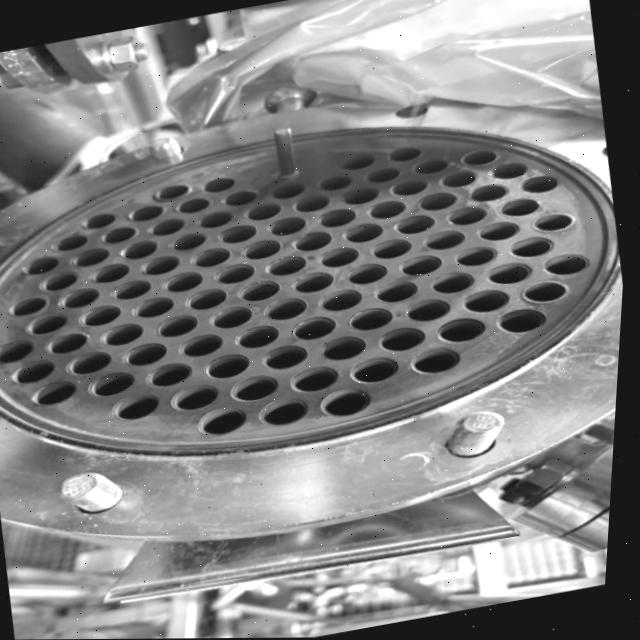Hole: (496, 303, 554, 339), (435, 313, 493, 348), (258, 394, 314, 429), (350, 353, 406, 388), (198, 403, 253, 438), (170, 381, 225, 415), (323, 385, 376, 420), (290, 362, 344, 396), (540, 249, 595, 282), (412, 344, 467, 376), (205, 349, 258, 382), (378, 322, 431, 355), (461, 285, 515, 317), (232, 371, 284, 404), (147, 358, 199, 391), (320, 332, 373, 364), (346, 303, 399, 335), (485, 258, 538, 290), (31, 377, 84, 409), (89, 368, 141, 400), (523, 275, 575, 307), (113, 390, 165, 422), (507, 232, 560, 263), (264, 341, 314, 373), (292, 312, 342, 344), (12, 355, 62, 387), (66, 347, 117, 378), (290, 266, 340, 297), (209, 302, 259, 332), (263, 294, 313, 324), (343, 258, 393, 288), (529, 208, 580, 236), (407, 295, 455, 324), (236, 322, 284, 351), (180, 330, 228, 359), (238, 276, 286, 304), (432, 267, 478, 296), (124, 340, 172, 367), (101, 320, 149, 347), (47, 328, 93, 356), (214, 259, 260, 287), (156, 312, 203, 339), (110, 275, 157, 302), (317, 243, 364, 270), (265, 251, 312, 278), (185, 286, 232, 313), (0, 335, 42, 365), (400, 250, 445, 278), (27, 310, 73, 337), (162, 267, 208, 294), (320, 286, 366, 313), (478, 216, 522, 244), (376, 277, 421, 304), (342, 219, 387, 246), (456, 242, 500, 269), (80, 302, 125, 327), (134, 294, 179, 319), (140, 252, 185, 277), (446, 202, 491, 227), (60, 284, 103, 310), (394, 211, 438, 236), (417, 189, 461, 214), (242, 236, 285, 261), (499, 195, 542, 220), (371, 237, 414, 261), (92, 260, 135, 284), (192, 245, 235, 269), (292, 228, 335, 252), (388, 175, 431, 199), (426, 227, 468, 251), (71, 244, 113, 268), (119, 236, 161, 260), (268, 214, 310, 238), (319, 205, 359, 230), (367, 198, 410, 221), (169, 229, 210, 253), (520, 172, 561, 196), (490, 159, 530, 182), (41, 269, 82, 291), (469, 181, 510, 203), (341, 184, 382, 206), (246, 199, 285, 222), (11, 295, 51, 317), (440, 167, 480, 189), (54, 230, 92, 253), (150, 214, 188, 237), (198, 208, 237, 230), (220, 222, 259, 244), (461, 147, 500, 169), (25, 253, 63, 275), (294, 192, 332, 214), (103, 223, 140, 245), (413, 155, 450, 177), (339, 151, 376, 171), (156, 182, 192, 202), (272, 180, 308, 200), (366, 165, 402, 185), (388, 144, 424, 164), (225, 187, 259, 208), (319, 172, 353, 192), (131, 202, 166, 221), (178, 195, 213, 214), (84, 210, 118, 229), (204, 174, 236, 193)
